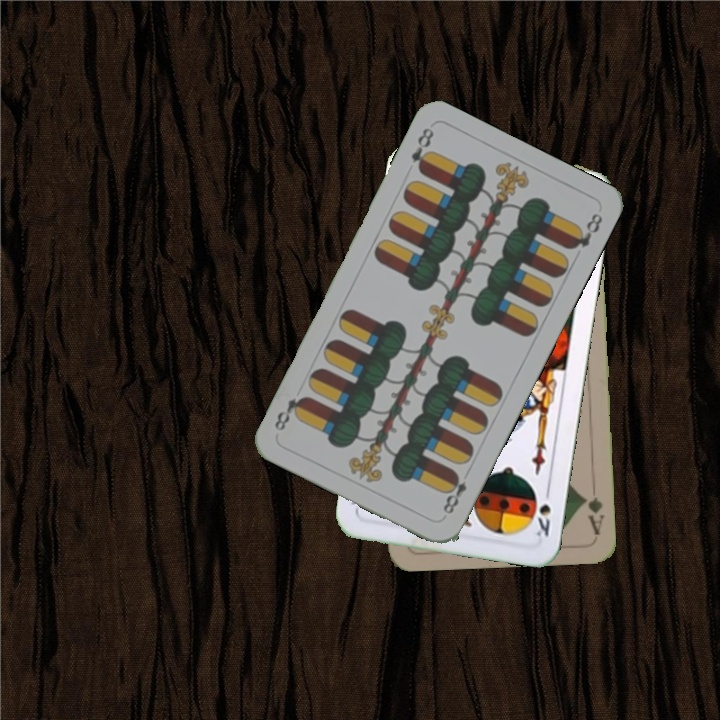E8: (439, 466, 473, 517), (407, 123, 437, 176)
GA: (579, 492, 607, 538)
SK: (532, 483, 554, 539)
